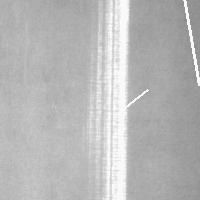scratches: (97, 1, 130, 199), (179, 0, 200, 90), (111, 84, 153, 119), (20, 17, 31, 89)
